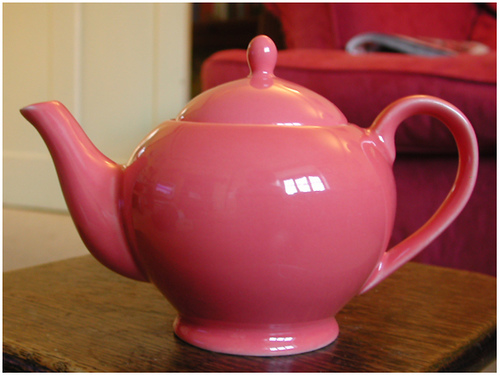teapot: (8, 12, 489, 365)
